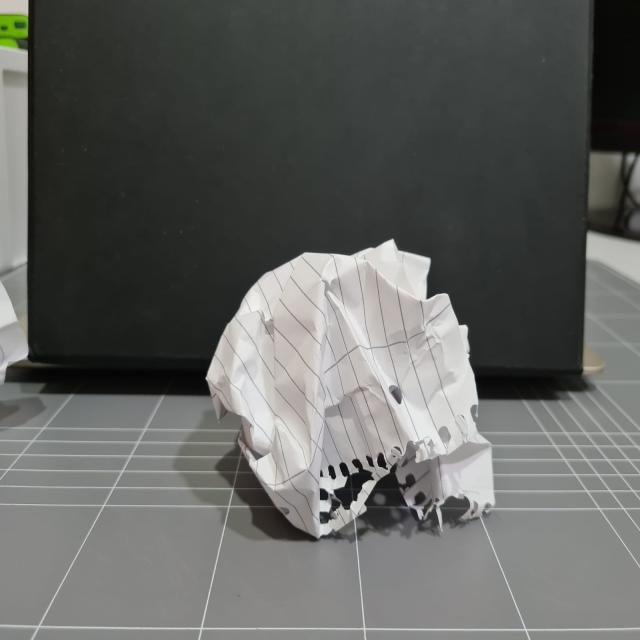Paper: (208, 239, 496, 539)
